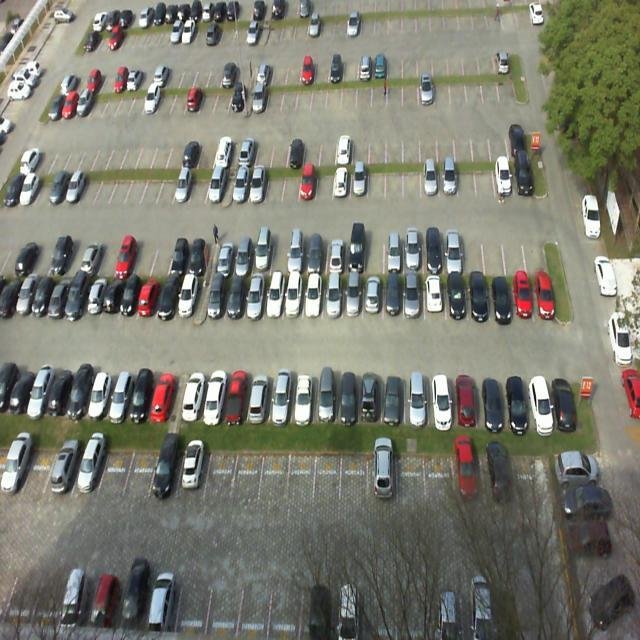space-empty: (94, 445, 132, 502), (123, 442, 158, 502), (231, 451, 264, 504), (204, 448, 238, 498), (312, 451, 342, 507), (21, 446, 55, 494), (259, 448, 290, 500), (288, 449, 314, 504), (483, 227, 507, 275), (130, 236, 156, 276), (155, 165, 178, 208), (525, 229, 548, 272), (148, 237, 172, 278), (188, 164, 211, 206), (505, 227, 526, 272), (139, 165, 162, 205), (464, 228, 484, 272), (268, 236, 290, 272), (364, 235, 383, 273), (458, 162, 478, 198), (478, 158, 496, 198), (267, 166, 284, 207), (283, 164, 300, 205), (368, 162, 386, 200), (388, 162, 404, 200), (403, 163, 420, 198), (316, 166, 332, 200)
space-occupied: (71, 446, 106, 501), (148, 444, 182, 500), (43, 445, 78, 499), (545, 370, 576, 426), (499, 373, 528, 432), (175, 445, 208, 496), (223, 370, 254, 424), (523, 371, 550, 428), (64, 367, 93, 420), (476, 372, 502, 429), (117, 271, 146, 322), (222, 272, 249, 326), (83, 371, 112, 421), (106, 371, 134, 422), (452, 374, 479, 426), (136, 267, 162, 320), (428, 375, 454, 428), (127, 370, 154, 420), (312, 372, 336, 428), (268, 373, 294, 424), (154, 274, 180, 324), (203, 370, 229, 420), (246, 372, 272, 422), (262, 270, 286, 324), (530, 270, 557, 318), (148, 374, 175, 422), (359, 371, 382, 426), (174, 272, 198, 324), (382, 371, 405, 424), (101, 270, 125, 320), (241, 275, 265, 325), (335, 373, 359, 423), (290, 372, 313, 424), (405, 374, 428, 426), (486, 273, 511, 320), (181, 373, 206, 418), (443, 226, 466, 273), (205, 273, 225, 327), (113, 238, 140, 276), (509, 276, 532, 320), (303, 276, 324, 324), (444, 277, 467, 320), (467, 275, 488, 322), (363, 276, 384, 322), (282, 276, 302, 324), (167, 238, 192, 276), (322, 277, 343, 322), (425, 229, 445, 276), (188, 239, 212, 278), (511, 156, 534, 196), (287, 234, 310, 274), (404, 226, 424, 272), (404, 274, 424, 320), (426, 276, 446, 322), (172, 165, 193, 208), (382, 231, 404, 272), (229, 238, 252, 277), (204, 166, 226, 206), (231, 164, 252, 205), (213, 239, 236, 276), (384, 276, 402, 322), (307, 234, 328, 273), (345, 231, 364, 274), (251, 235, 272, 272), (345, 275, 362, 320), (324, 235, 344, 273), (299, 166, 317, 205), (494, 160, 514, 195), (250, 166, 268, 204), (422, 163, 440, 198), (333, 165, 350, 202), (440, 162, 458, 195), (351, 164, 367, 198)
